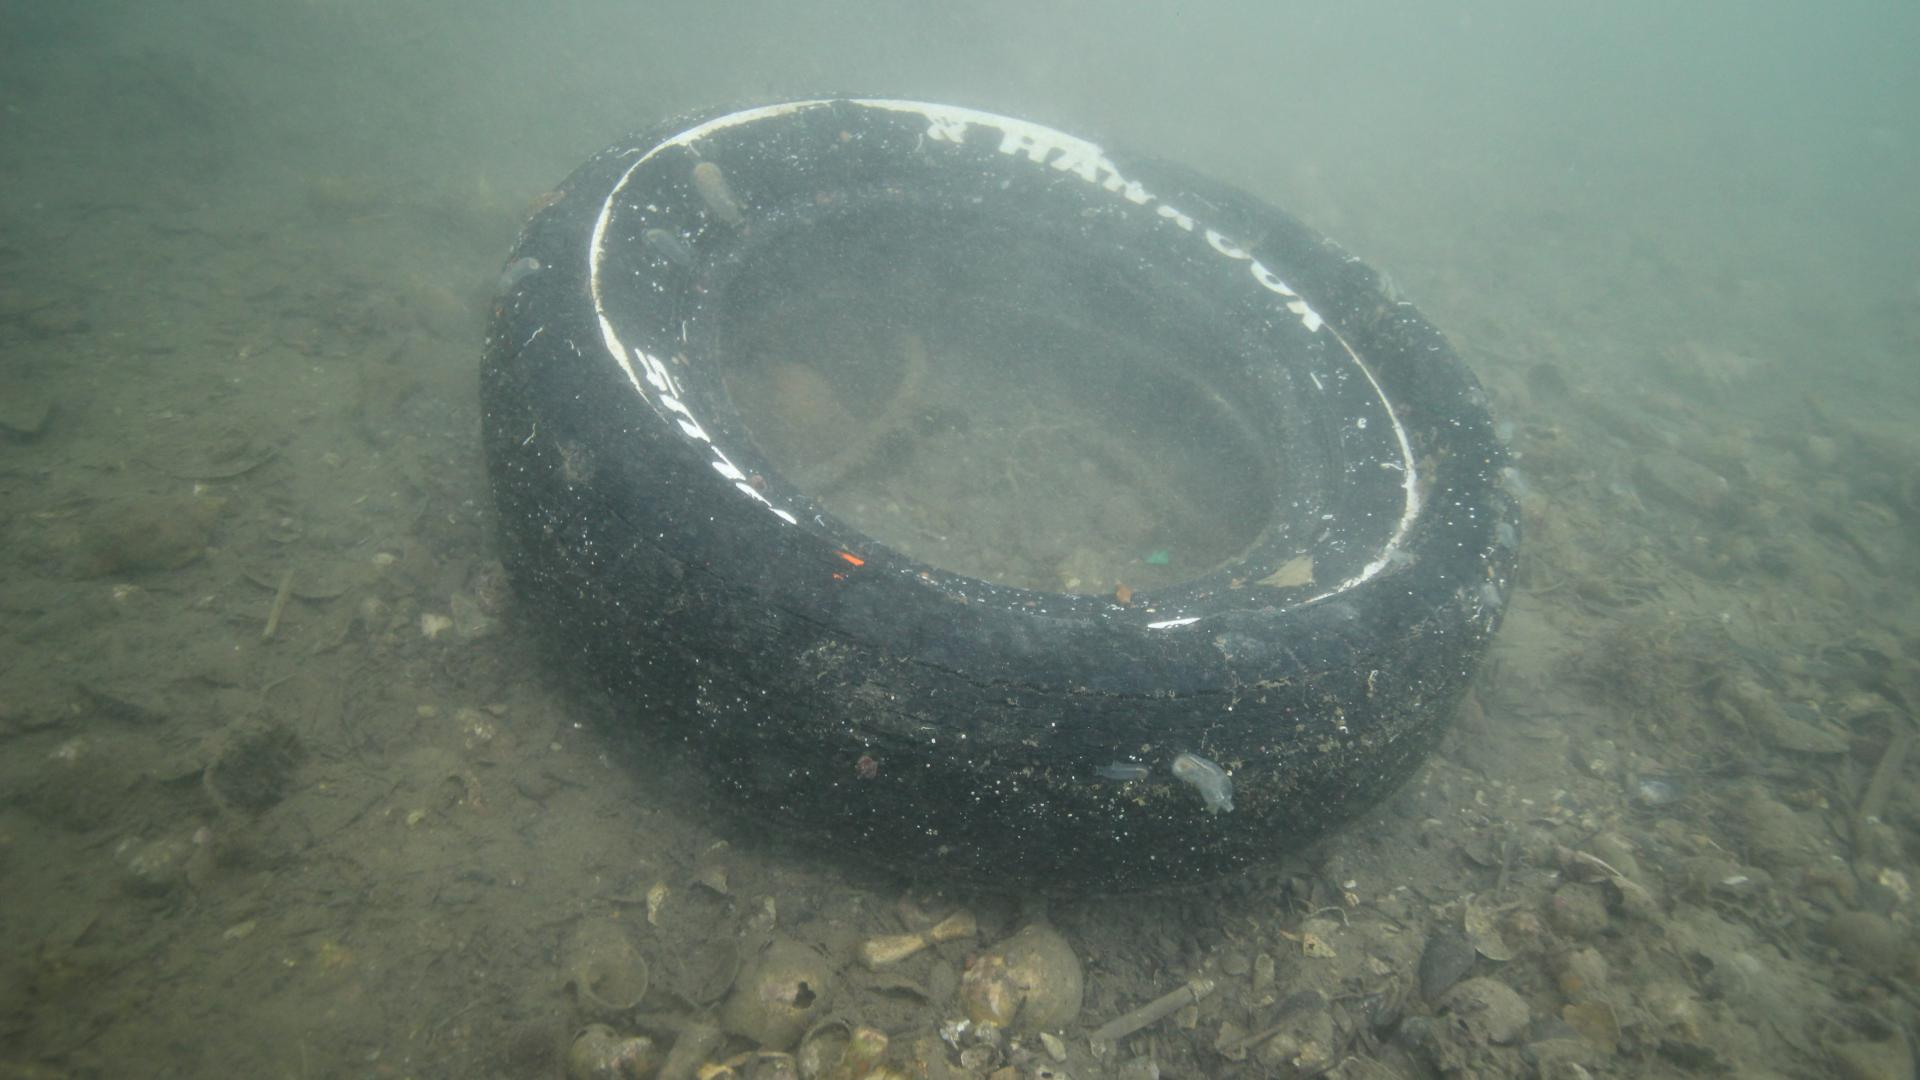tire: (477, 88, 1520, 895)
